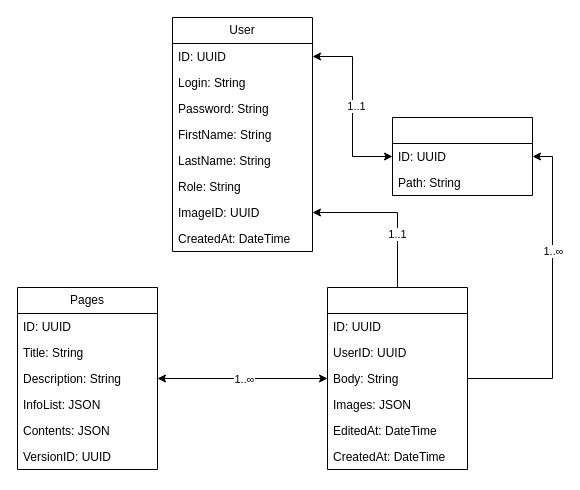
Image size: 580x490. Some labels were removed from this diagram. The shapes that lost their labels are listed below. From the top down, each one's box as (x1, y1, x2, y2) in pixels, then its label:
(392, 116, 532, 196): Images
(326, 286, 468, 470): PageVersions
